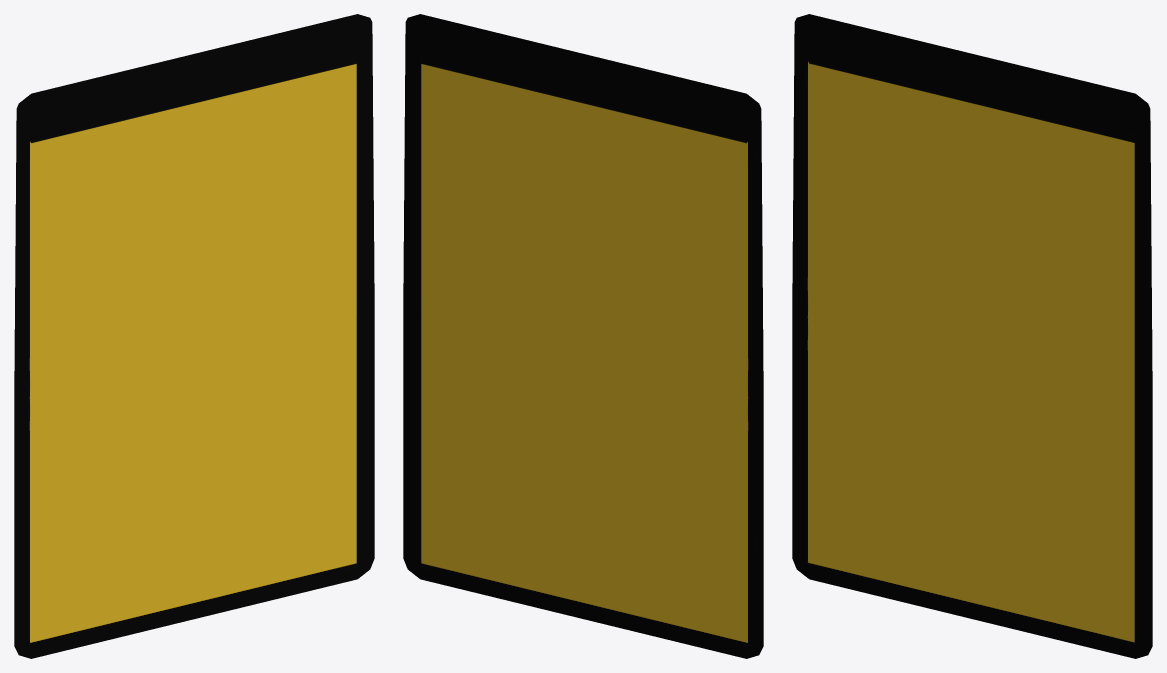
The model's file is CardModelBack.fbx.
The picture shows the model from 3 angles, left to right: view 1: azimuth 30°, elevation 25°; view 2: azimuth 150°, elevation 25°; view 3: azimuth 330°, elevation 25°; orthographic projection.
Visible parts, largest first — view 1: Card; view 2: Card; view 3: Card.
Boxes of the visible parts, left/top/right/bottom form: Card: left=14, top=14, right=374, bottom=658; Card: left=403, top=14, right=763, bottom=658; Card: left=792, top=14, right=1152, bottom=658.
Bounding box in the file's own units: 400 × 600 × 0.000137.
